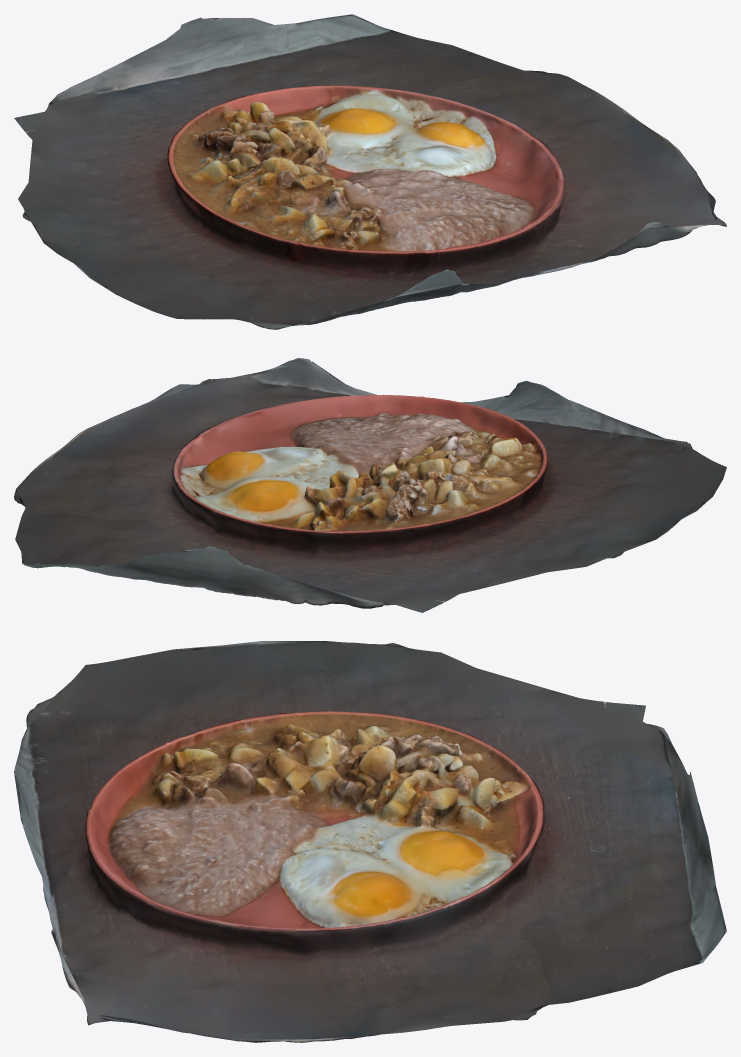
3 views of the same model, one above another, from view 1: azimuth 30°, elevation 25°; view 2: azimuth 150°, elevation 25°; view 3: azimuth 270°, elevation 25° (orthographic). The views are drawn at different scales.
Parts seen in each view (by area): view 1: 3DModel; view 2: 3DModel; view 3: 3DModel.
Part boxes in pixels (<box>): 3DModel: <box>14,14,726,329</box>; 3DModel: <box>14,358,726,612</box>; 3DModel: <box>14,641,726,1042</box>.
Size of the model in its own units: 1.54 by 0.1998 by 1.33.
1 material, 1 textured.
